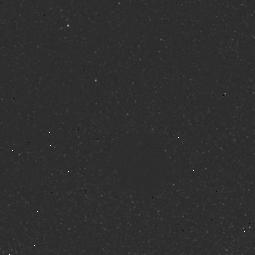proba_3_ocs: (106, 125, 174, 204)
